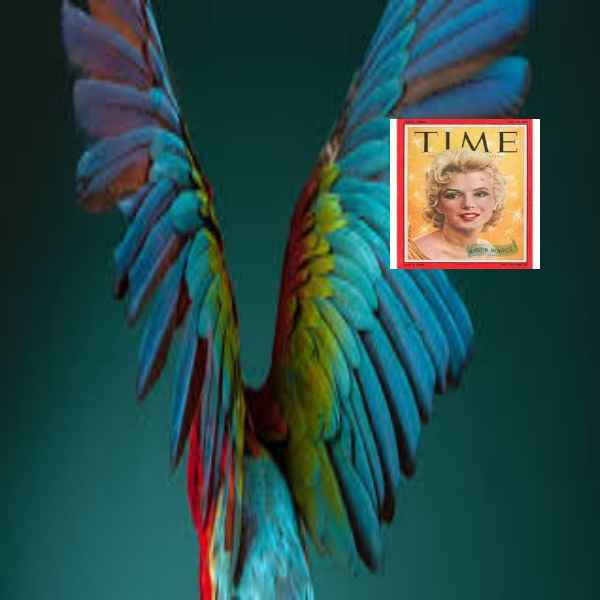time_cover: (382, 107, 552, 274)
